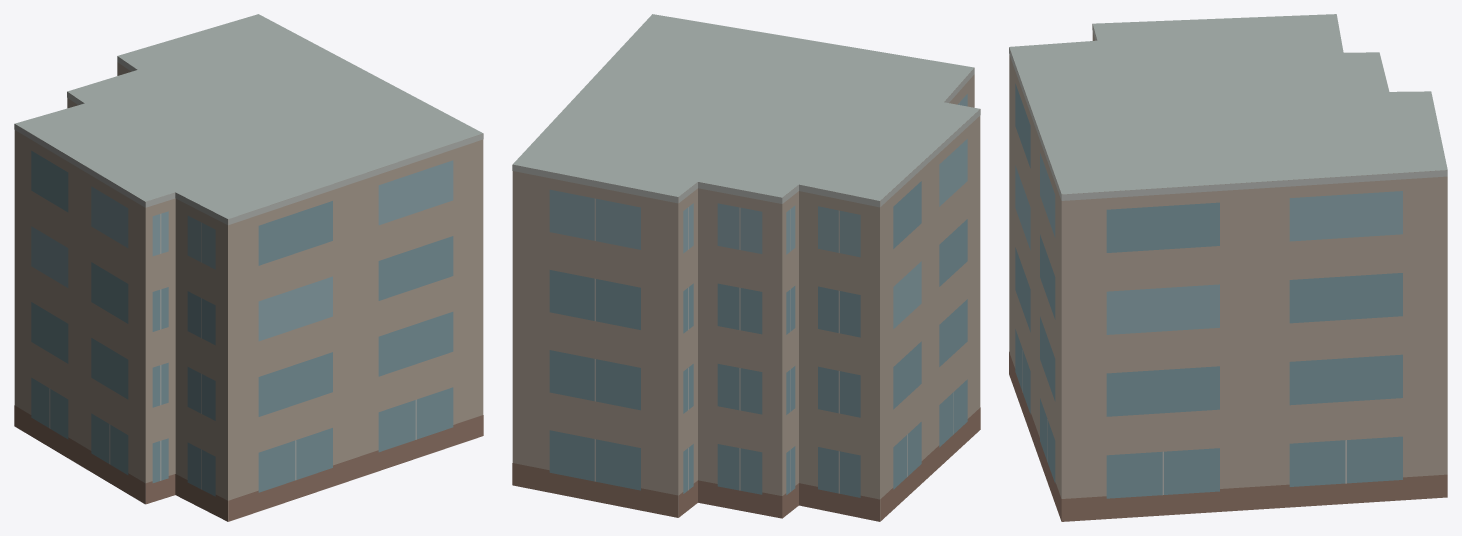
Rendered from survey-upis-32959367.glb.
3 views of the same model, side by side, from view 1: azimuth 30°, elevation 25°; view 2: azimuth 150°, elevation 25°; view 3: azimuth 270°, elevation 25° (orthographic). The views are drawn at different scales.
Parts seen in each view (by area): view 1: survey-upis-32959367.tmp; view 2: survey-upis-32959367.tmp; view 3: survey-upis-32959367.tmp.
Boxes of the visible parts, left/top/right/bottom form: survey-upis-32959367.tmp: left=14, top=14, right=483, bottom=521; survey-upis-32959367.tmp: left=512, top=14, right=980, bottom=521; survey-upis-32959367.tmp: left=1009, top=14, right=1447, bottom=521.
Size of the model in its own units: 14.43 by 12.2 by 14.82.
